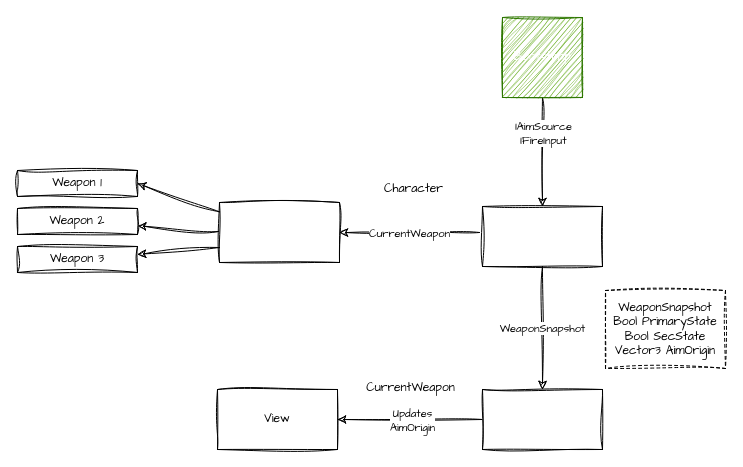
The diagram is 743 pixels wide and 467 high, and some of its shapes have lost their labels. Here are the shapes that lost their labels. From the top down, the centre of each, then its label:
At point (279, 232): "Inventory".
At point (542, 236): "System".
At point (542, 419): "Controller".
